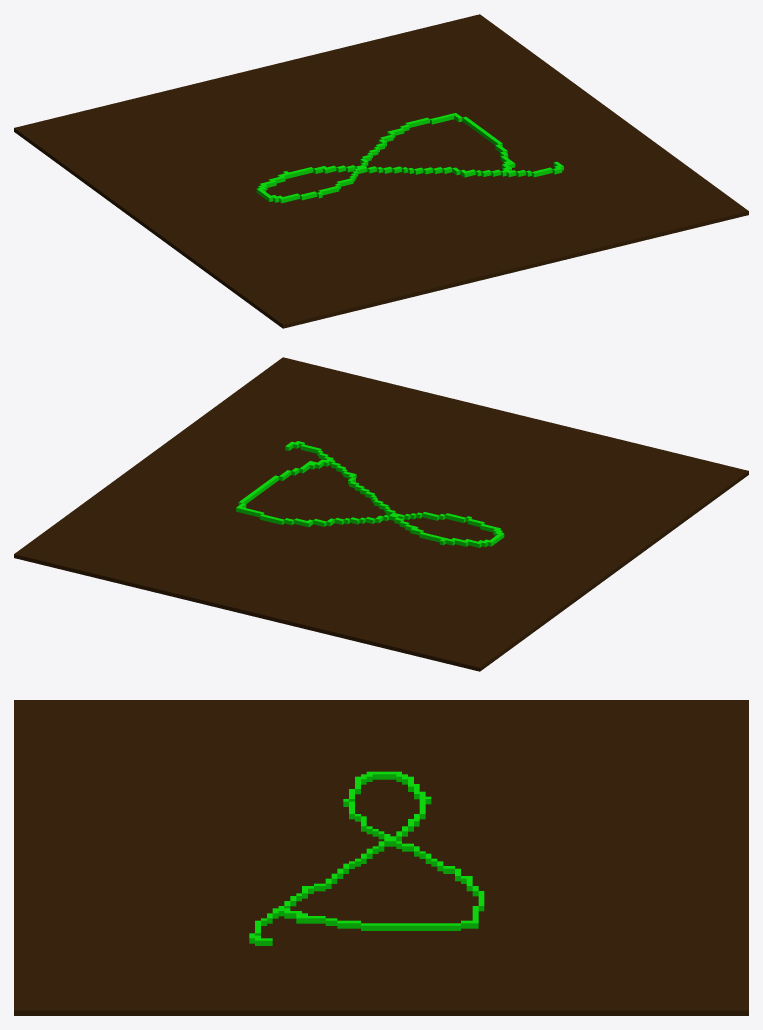
The model's file is Level01-7.obj.
The picture shows the model from 3 angles, top to bottom: view 1: azimuth 30°, elevation 25°; view 2: azimuth 150°, elevation 25°; view 3: azimuth 270°, elevation 25°; orthographic projection. The views are drawn at different scales.
Parts seen in each view (by area): view 1: Level01-7; view 2: Level01-7; view 3: Level01-7.
Part boxes in pixels (x1,y1,x2,y2): Level01-7: [14, 14, 748, 328]; Level01-7: [14, 357, 748, 671]; Level01-7: [14, 700, 748, 1015].
Bounding box in the file's own units: 125 × 2 × 125.
1 material, 1 textured.
